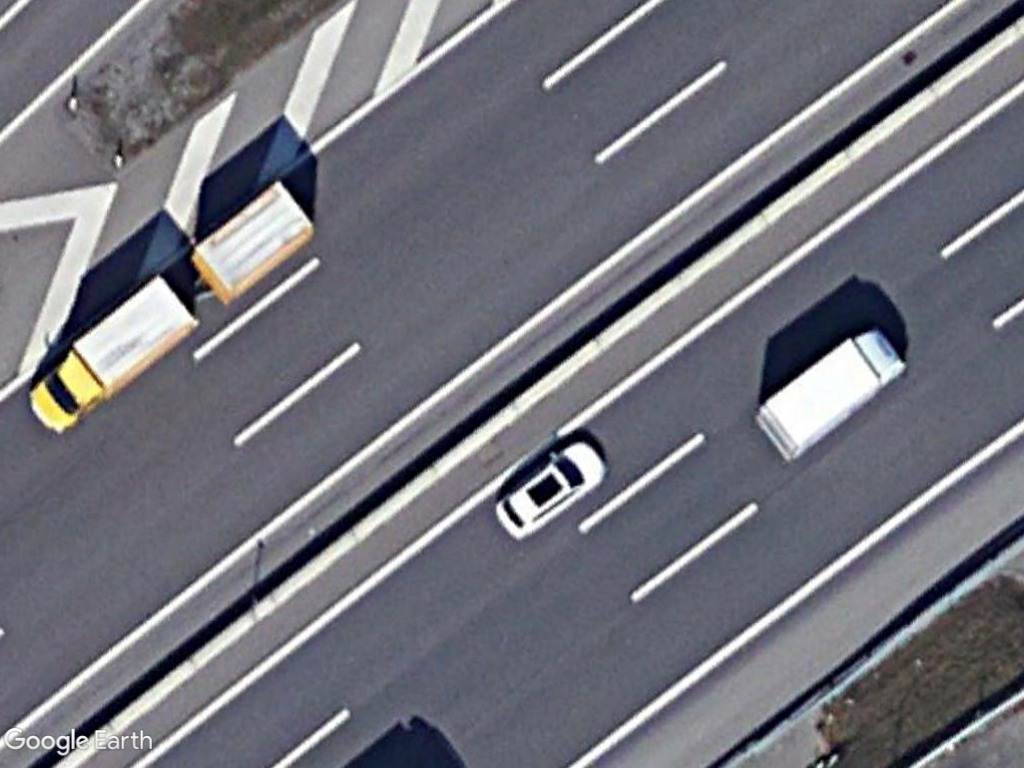car: (492, 435, 614, 541)
truck: (23, 268, 198, 439), (753, 326, 904, 459)
